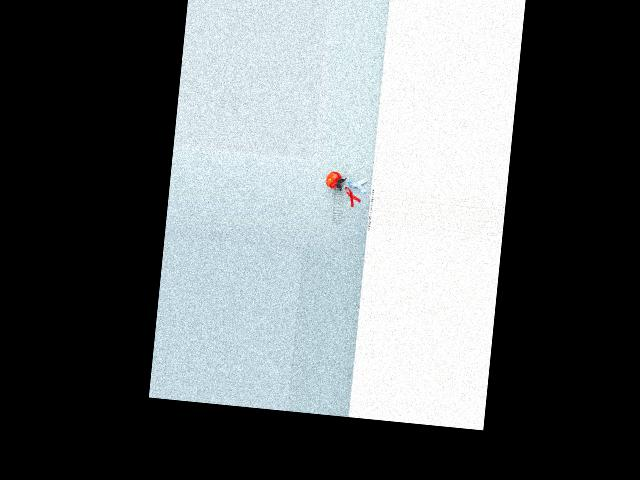tomato: (325, 171, 343, 189)
